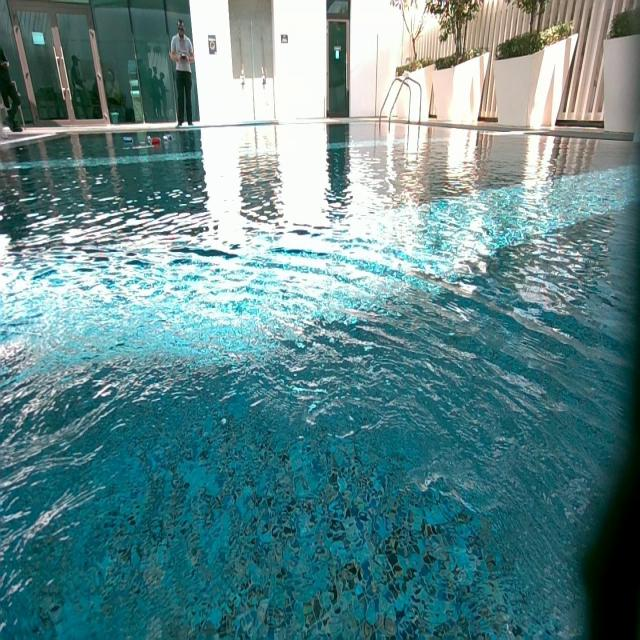Cans: (150, 137, 161, 148), (125, 136, 134, 146), (165, 135, 173, 142)
